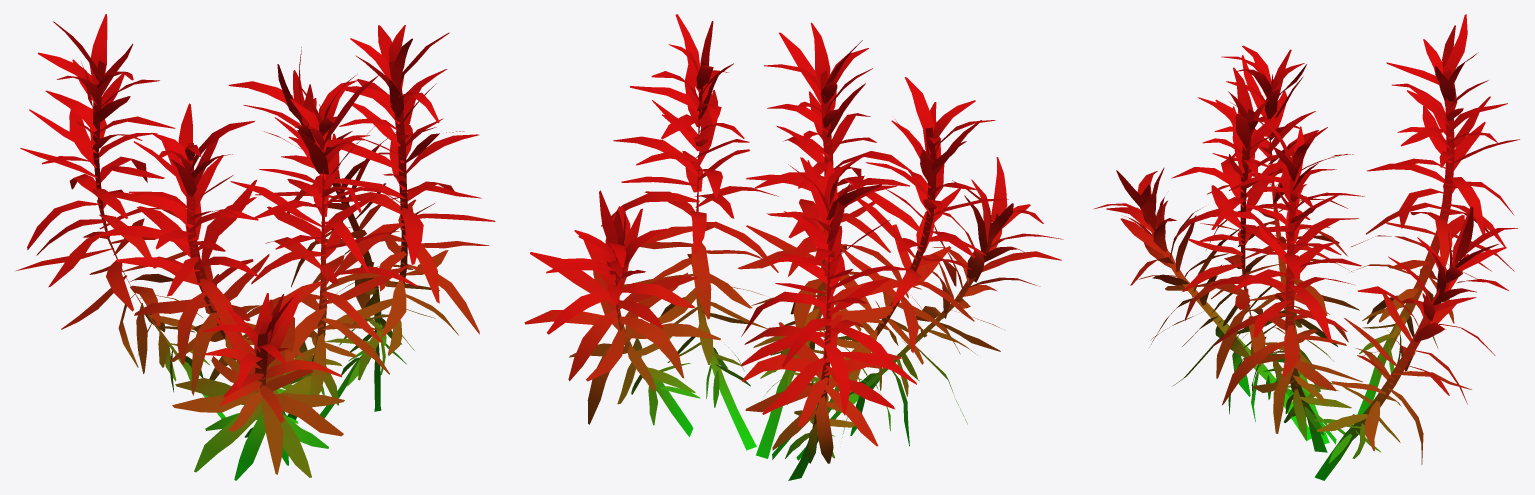
File: Butterfly Weed_LOD3_Var7.fbx
The picture shows the model from 3 angles, left to right: view 1: azimuth 30°, elevation 25°; view 2: azimuth 150°, elevation 25°; view 3: azimuth 270°, elevation 25°; orthographic projection. The views are drawn at different scales.
Visible parts, largest first — view 1: _gtf7_Var7_LOD3; view 2: _gtf7_Var7_LOD3; view 3: _gtf7_Var7_LOD3.
Boxes of the visible parts, <box> form: _gtf7_Var7_LOD3: <box>16,14,495,480</box>; _gtf7_Var7_LOD3: <box>524,14,1063,480</box>; _gtf7_Var7_LOD3: <box>1093,14,1519,480</box>.
Bounding box in the file's own units: 69.26 × 69.11 × 73.81.
